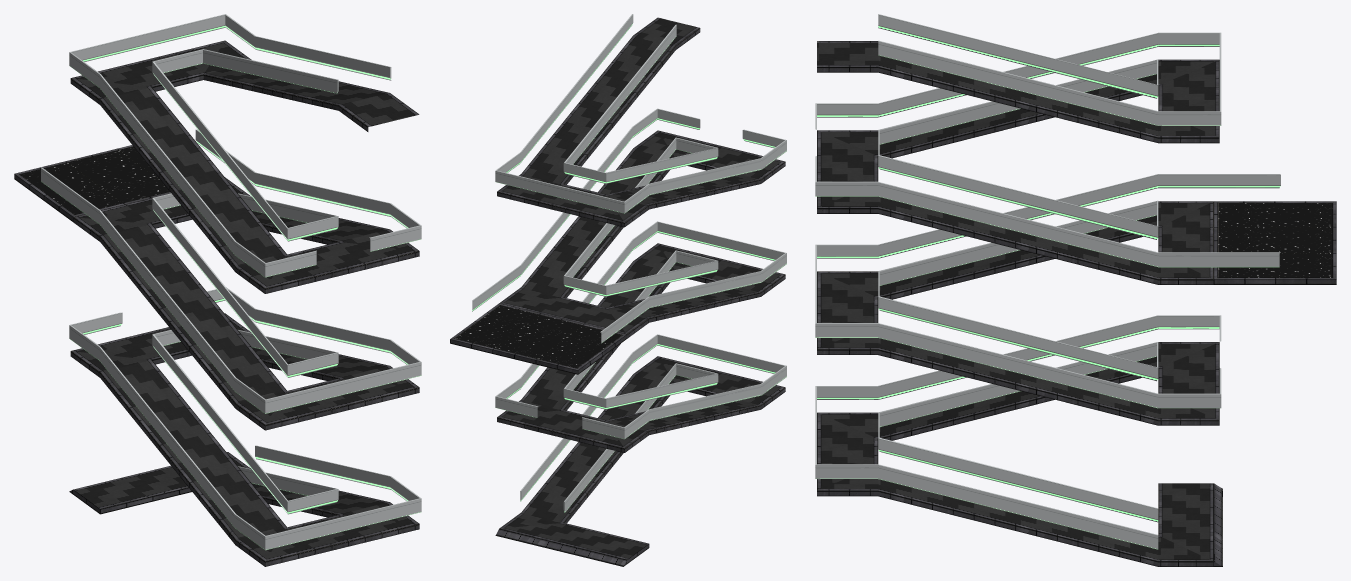
Rendered from entity15424.gltf.
The picture shows the model from 3 angles, left to right: view 1: azimuth 30°, elevation 25°; view 2: azimuth 150°, elevation 25°; view 3: azimuth 270°, elevation 25°; orthographic projection. The views are drawn at different scales.
Visible parts, largest first — view 1: node_Exhibit_Str_Stairs_2_Art, node_Exhibit_Str_Stairs_2_Railing; view 2: node_Exhibit_Str_Stairs_2_Art, node_Exhibit_Str_Stairs_2_Railing; view 3: node_Exhibit_Str_Stairs_2_Art, node_Exhibit_Str_Stairs_2_Railing.
Boxes of the visible parts, x1,y1,x2,y2 form: node_Exhibit_Str_Stairs_2_Art: [14, 40, 419, 566]; node_Exhibit_Str_Stairs_2_Railing: [41, 14, 421, 550]; node_Exhibit_Str_Stairs_2_Art: [450, 17, 785, 566]; node_Exhibit_Str_Stairs_2_Railing: [472, 14, 786, 512]; node_Exhibit_Str_Stairs_2_Art: [817, 41, 1336, 566]; node_Exhibit_Str_Stairs_2_Railing: [815, 14, 1280, 549].
Size of what is drawn, in the model's own units: 6.1 by 18.94 by 16.99.
2 materials, 2 textured.
